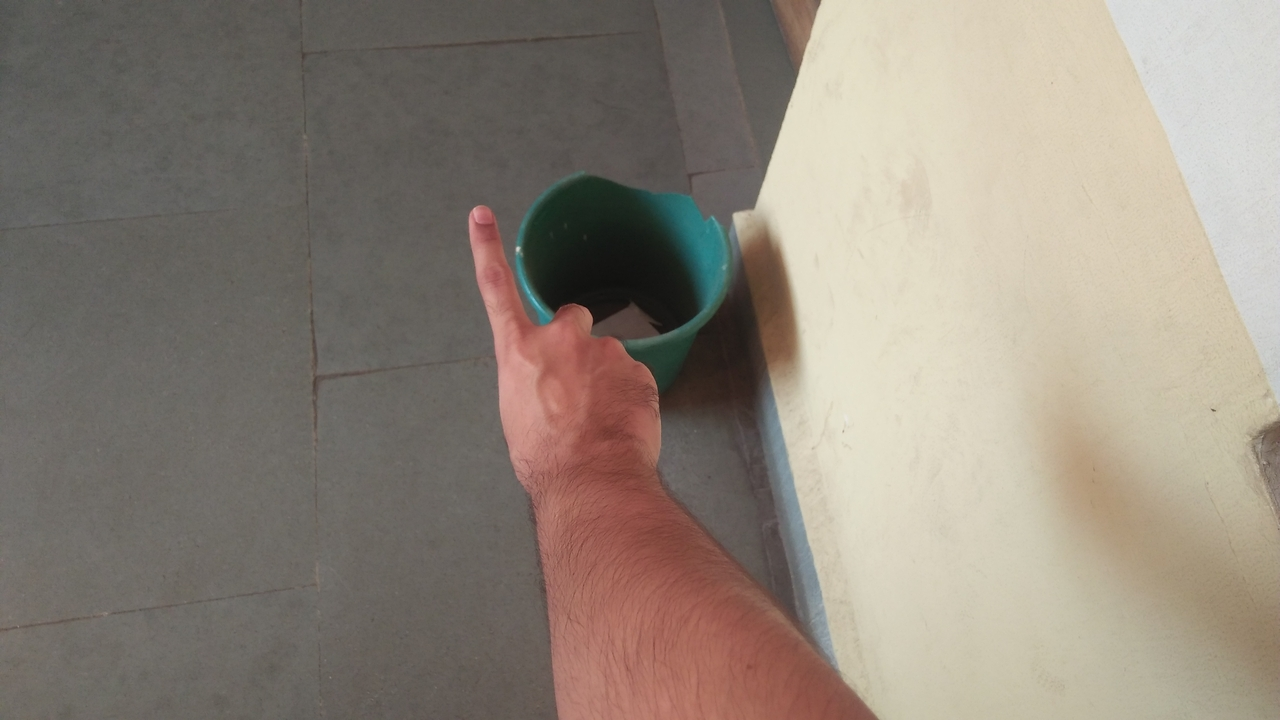fingertip: (458, 192, 508, 242)
